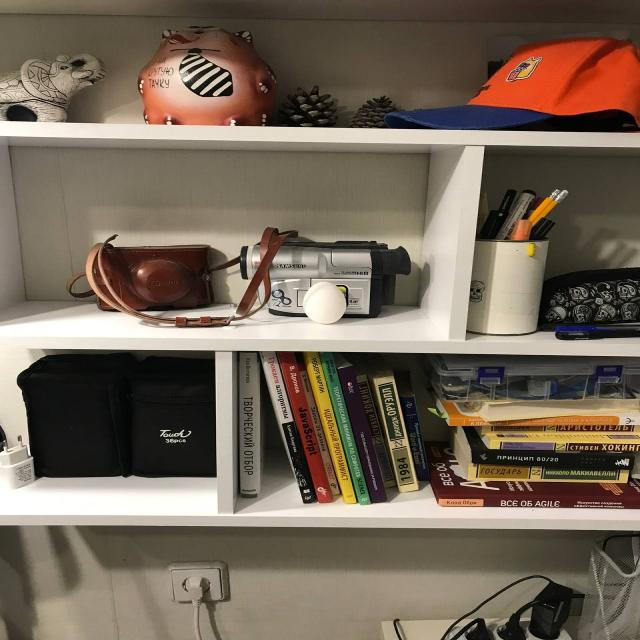egg: (303, 280, 348, 325)
